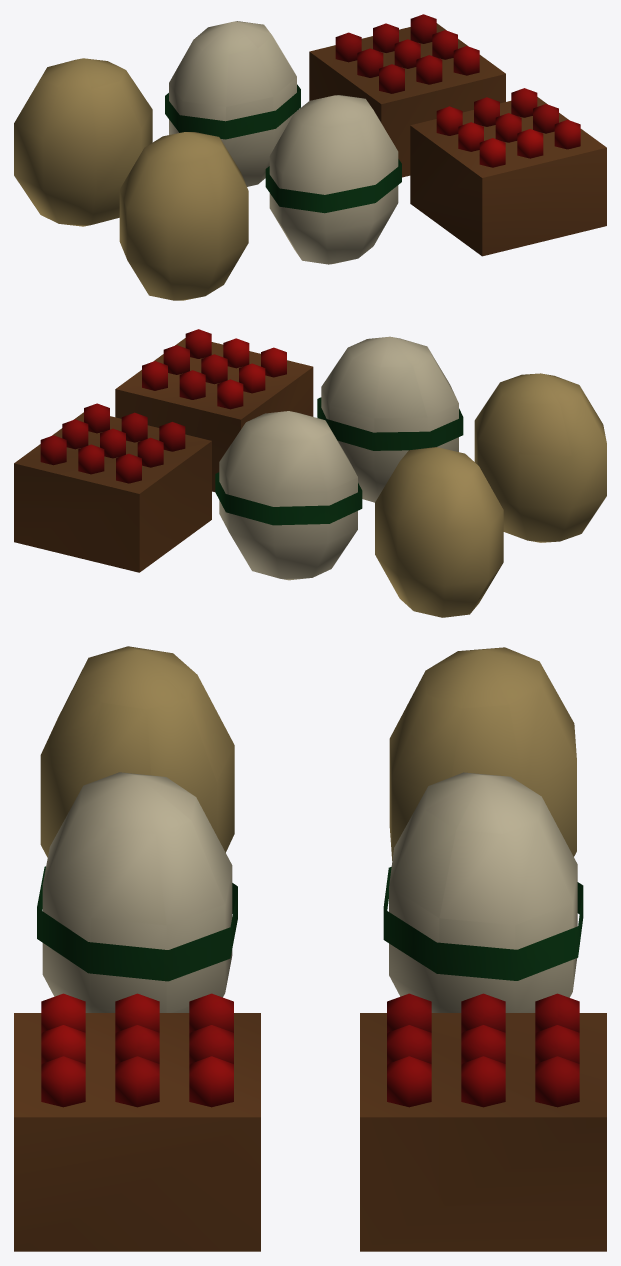
Rendered from fm_produce.glb.
3 views of the same model, one above another, from view 1: azimuth 30°, elevation 25°; view 2: azimuth 150°, elevation 25°; view 3: azimuth 270°, elevation 25° (orthographic). The views are drawn at different scales.
Parts seen in each view (by area): view 1: fm_produce; view 2: fm_produce; view 3: fm_produce.
Part boxes in pixels (x1,y1,x2,y2): fm_produce: [14, 14, 606, 300]; fm_produce: [14, 329, 606, 617]; fm_produce: [14, 646, 606, 1251].
Size of the model in its own units: 1.8 by 0.6448 by 1.2.
